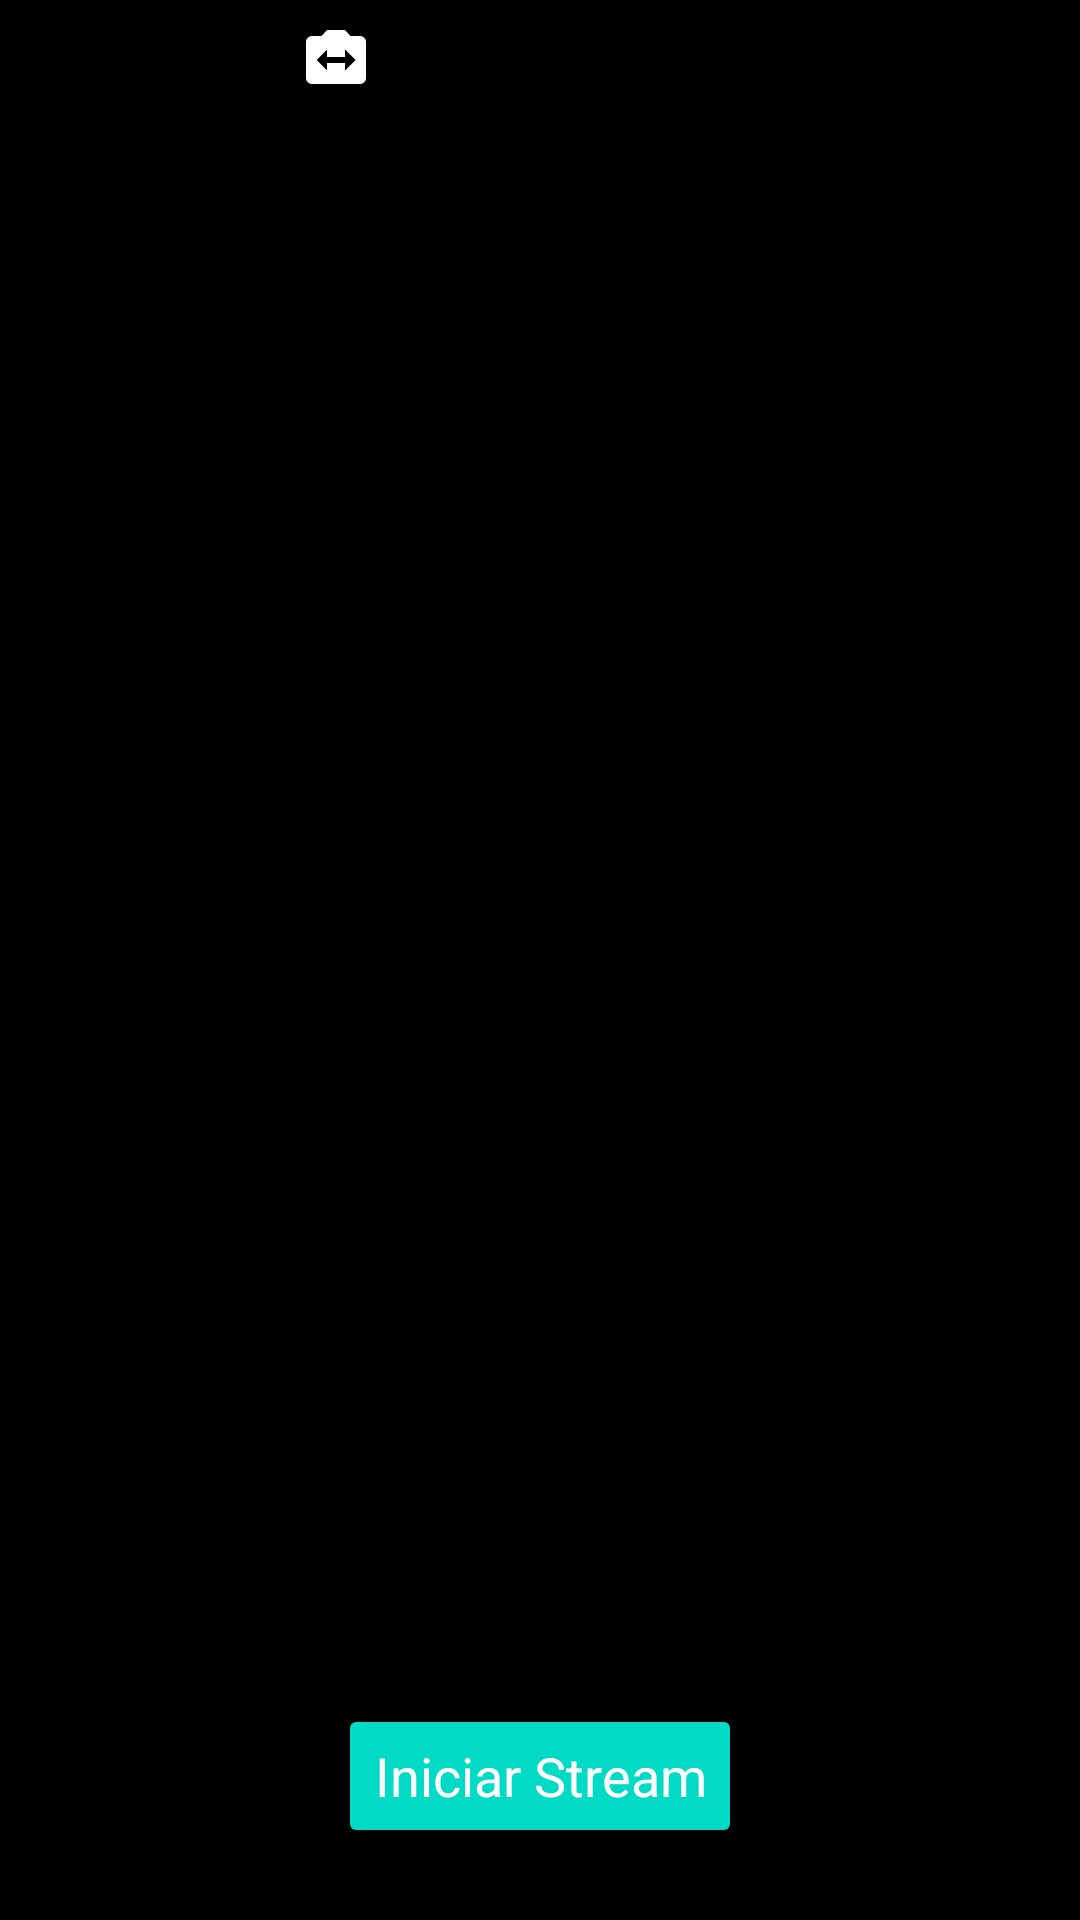

Icon bounding boxes for this 1080w x 1920h phone screenshot, format (x1, y1, x2, y2):
Switch camera: (306, 30, 366, 84)
